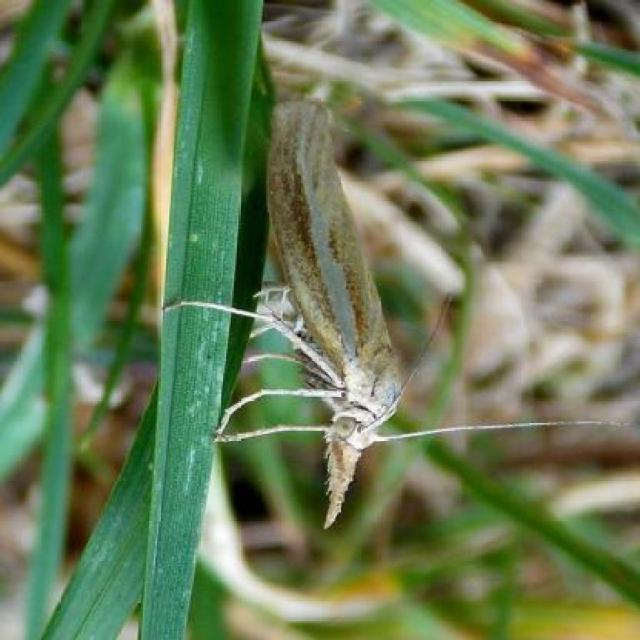stem-borer: (157, 99, 627, 533)
